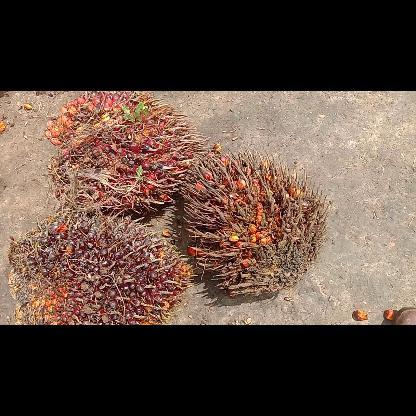Kurang masak: (7, 216, 187, 324)
TBS masak: (43, 91, 195, 215)
Terlalu masak: (181, 148, 324, 298)
